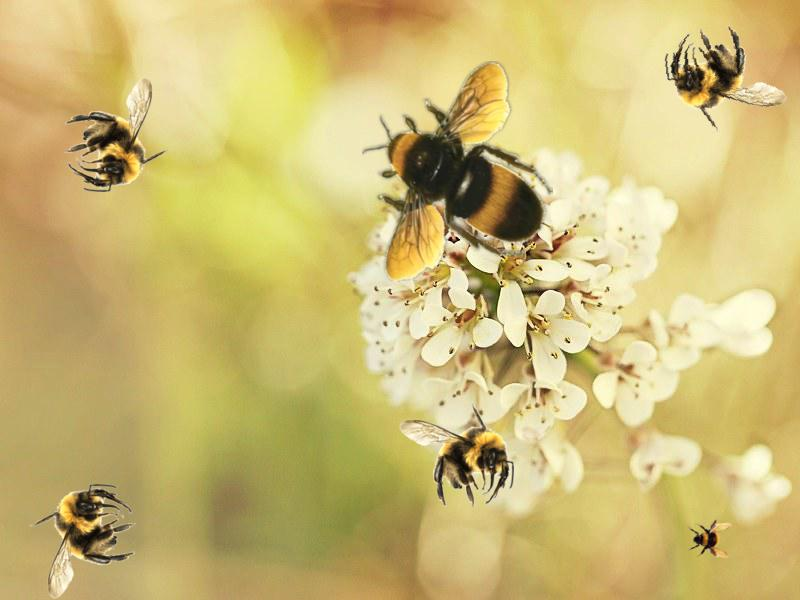Bee: (362, 61, 553, 281), (660, 16, 791, 141), (64, 77, 171, 192), (399, 401, 514, 508), (29, 484, 136, 599), (688, 516, 732, 560)
